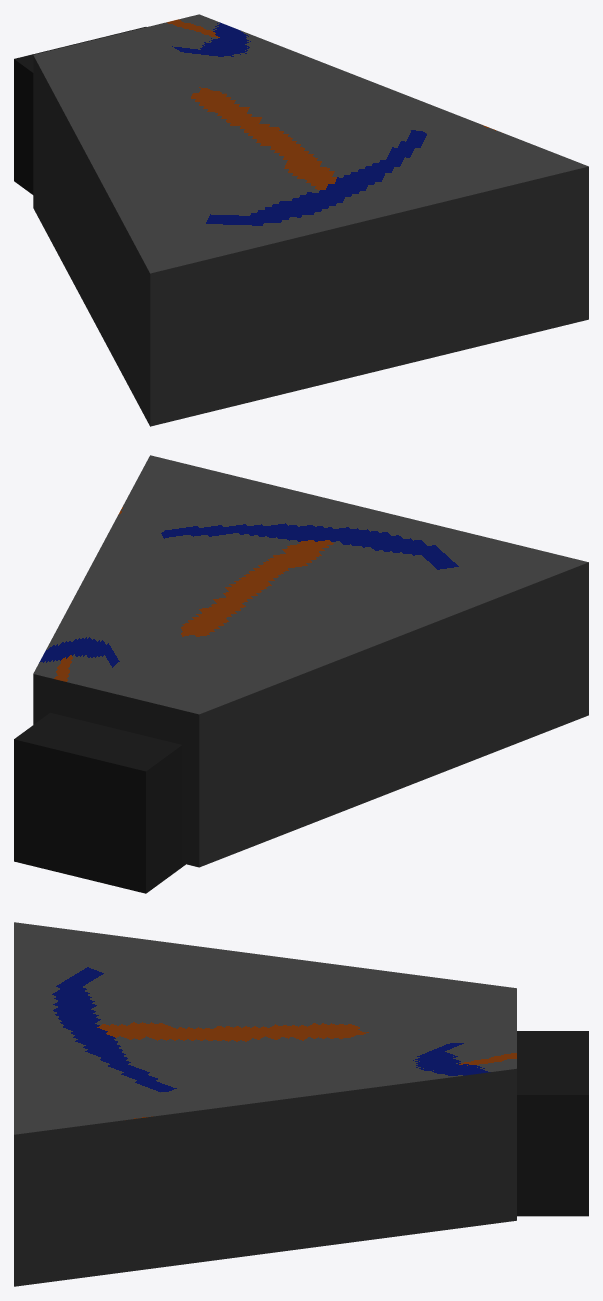
The model's file is mining_drill_improved.obj.
The picture shows the model from 3 angles, top to bottom: view 1: azimuth 30°, elevation 25°; view 2: azimuth 150°, elevation 25°; view 3: azimuth 270°, elevation 25°; orthographic projection.
Visible parts, largest first — view 1: Cube; view 2: Cube; view 3: Cube.
Boxes of the visible parts, left/top/right/bottom form: Cube: left=14, top=14, right=588, bottom=426; Cube: left=14, top=455, right=588, bottom=893; Cube: left=14, top=922, right=588, bottom=1286.
Bounding box in the file's own units: 6 × 2.05 × 6.86.
